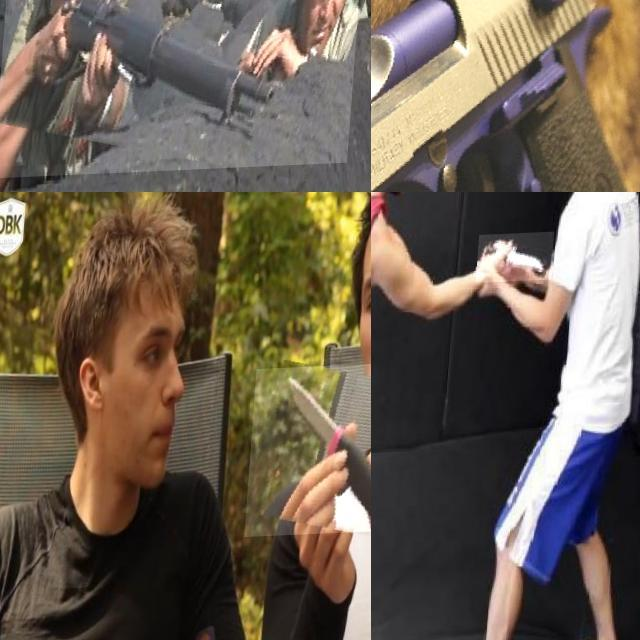-: (249, 365, 371, 540), (479, 236, 557, 288)
gun-knife-thesis - v11 Yolov5 augmented: (1, 0, 368, 179), (371, 0, 640, 192)
